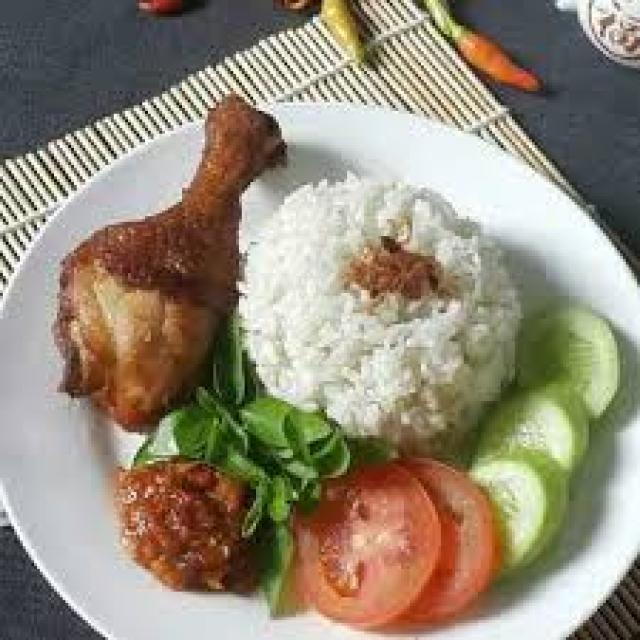Frango: (55, 109, 281, 452)
